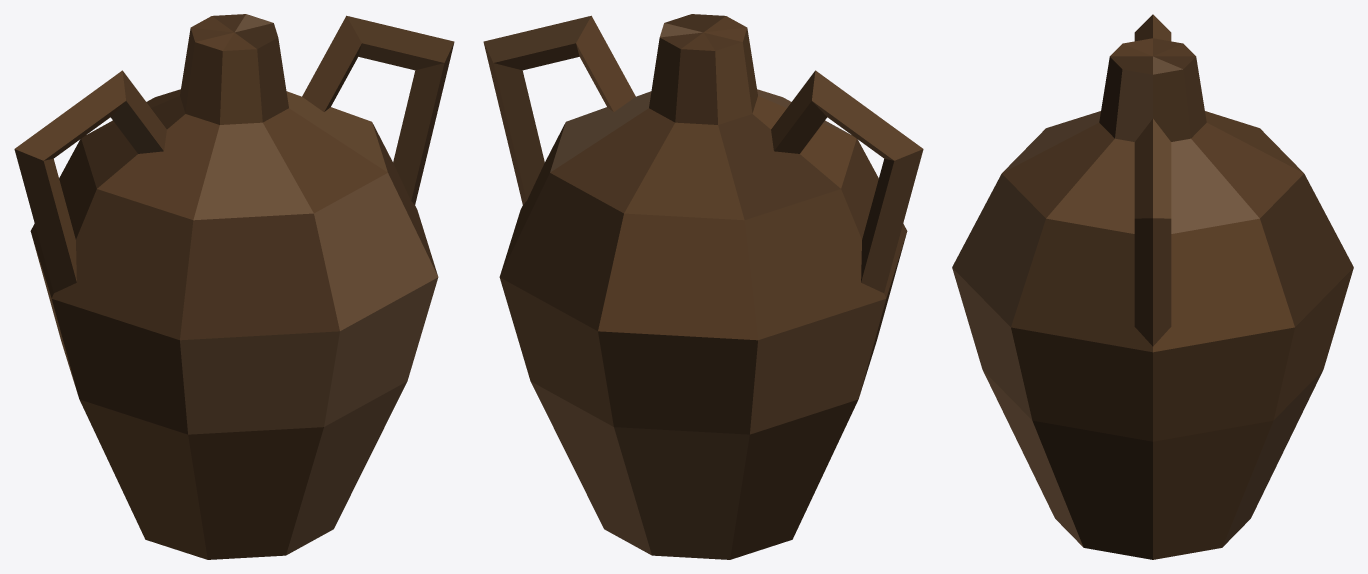
File: Prop_VaseE.fbx
3 renders of one model, left to right at view 1: azimuth 30°, elevation 25°; view 2: azimuth 150°, elevation 25°; view 3: azimuth 270°, elevation 25°, orthographic. The views are drawn at different scales.
Parts seen in each view (by area): view 1: Prop_VaseE; view 2: Prop_VaseE; view 3: Prop_VaseE.
Part boxes in pixels (box(x1,y1,x2,y2)): Prop_VaseE: box(14, 14, 454, 559); Prop_VaseE: box(483, 14, 923, 559); Prop_VaseE: box(952, 14, 1353, 559).
Bounding box in the file's own units: 76.43 × 80.55 × 63.48.
